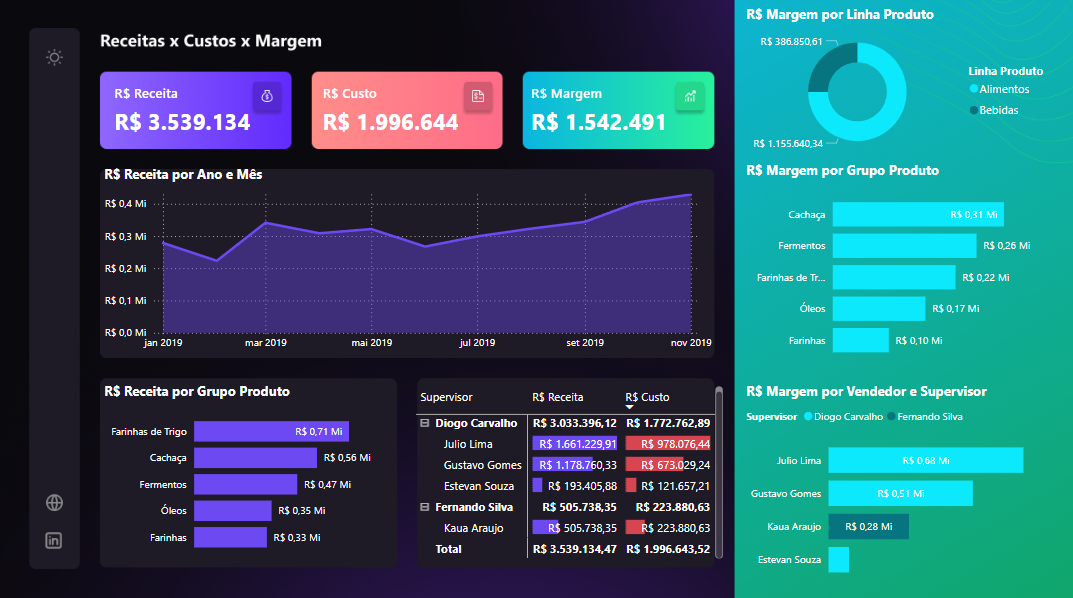

Layout of this report page (visuals, bound fields, positions):
{"tool":"powerbi","page":{"name":"Projeto4","canvas":[1280,720],"ordinal":0},"visuals":[{"type":"cardVisual","fields":{"Data":["Vendas.R$ Receita","Vendas.R$ Custo","Vendas.R$ Margem"]},"box":[120.2,86.9,746.2,97.6],"z":0},{"type":"pivotTable","fields":{"Rows":["Vendas.Supervisor","Vendas.Vendedor"],"Values":["Vendas.R$ Receita","Vendas.R$ Custo"]},"box":[491.5,459.4,374.9,215.4],"z":1000},{"type":"barChart","fields":{"Category":["Produto.Grupo Produto"],"Y":["Vendas.R$ Receita"]},"box":[120.2,459.4,357,215.4],"z":1001},{"type":"areaChart","fields":{"Y":["Vendas.R$ Receita"],"Category":["Vendas.Data.Variation.Hierarquia de datas.Ano","Vendas.Data.Variation.Hierarquia de datas.Mês","Vendas.Data.Variation.Hierarquia de datas.Dia"]},"box":[120.2,201.1,733.1,229.7],"z":1002},{"type":"donutChart","fields":{"Category":["Produto.Linha Produto"],"Y":["Vendas.R$ Margem"]},"box":[884.2,10.7,379.6,185.7],"z":1003},{"type":"barChart","fields":{"Category":["Produto.Grupo Produto"],"Y":["Vendas.R$ Margem"]},"box":[884.2,196.4,379.6,248.7],"z":1004},{"type":"barChart","fields":{"Y":["Vendas.R$ Margem"],"Category":["Vendas.Vendedor"],"Series":["Vendas.Supervisor"]},"box":[884.2,459.4,379.6,248.7],"z":1005}]}

Visuals, with their boxes in screenshot pixels (x1, y1, x2, y2), scaled from the page's 1280x720 canvas onto the 1073x598 screenshot:
cardVisual - Vendas.R$ Receita x Vendas.R$ Custo: <bbox>101, 72, 726, 153</bbox>
pivotTable - Vendas.Supervisor x Vendas.Vendedor: <bbox>412, 382, 726, 560</bbox>
barChart - Produto.Grupo Produto x Vendas.R$ Receita: <bbox>101, 382, 400, 560</bbox>
areaChart - Vendas.R$ Receita x Vendas.Data.Variation.Hierarquia de datas.Ano: <bbox>101, 167, 715, 358</bbox>
donutChart - Produto.Linha Produto x Vendas.R$ Margem: <bbox>741, 9, 1059, 163</bbox>
barChart - Produto.Grupo Produto x Vendas.R$ Margem: <bbox>741, 163, 1059, 370</bbox>
barChart - Vendas.R$ Margem x Vendas.Vendedor: <bbox>741, 382, 1059, 588</bbox>
